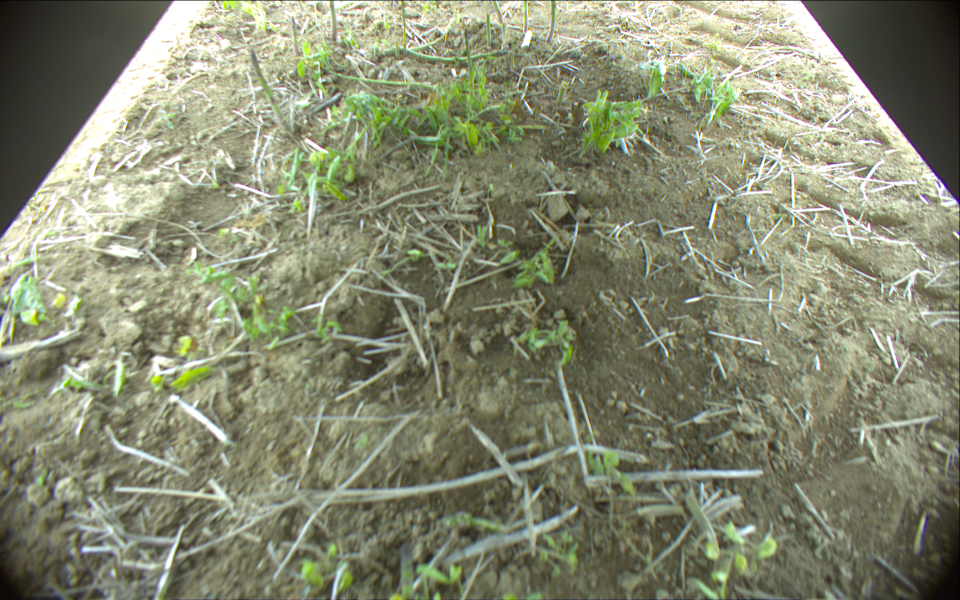aspa: (249, 48, 289, 130), (331, 71, 441, 89), (374, 47, 506, 61), (492, 1, 507, 47), (398, 1, 408, 52), (326, 1, 338, 42), (546, 1, 558, 40), (291, 16, 302, 55), (485, 11, 492, 45), (523, 1, 529, 34)
